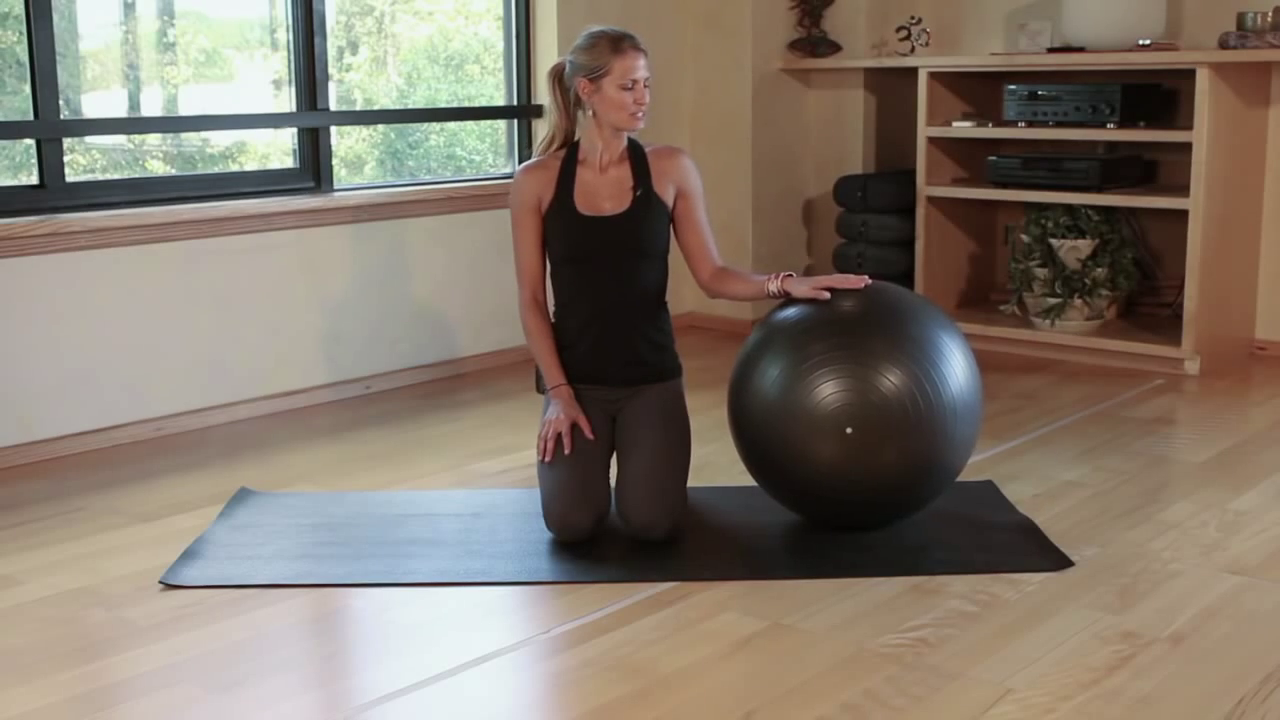yogaball: (721, 274, 1004, 541)
